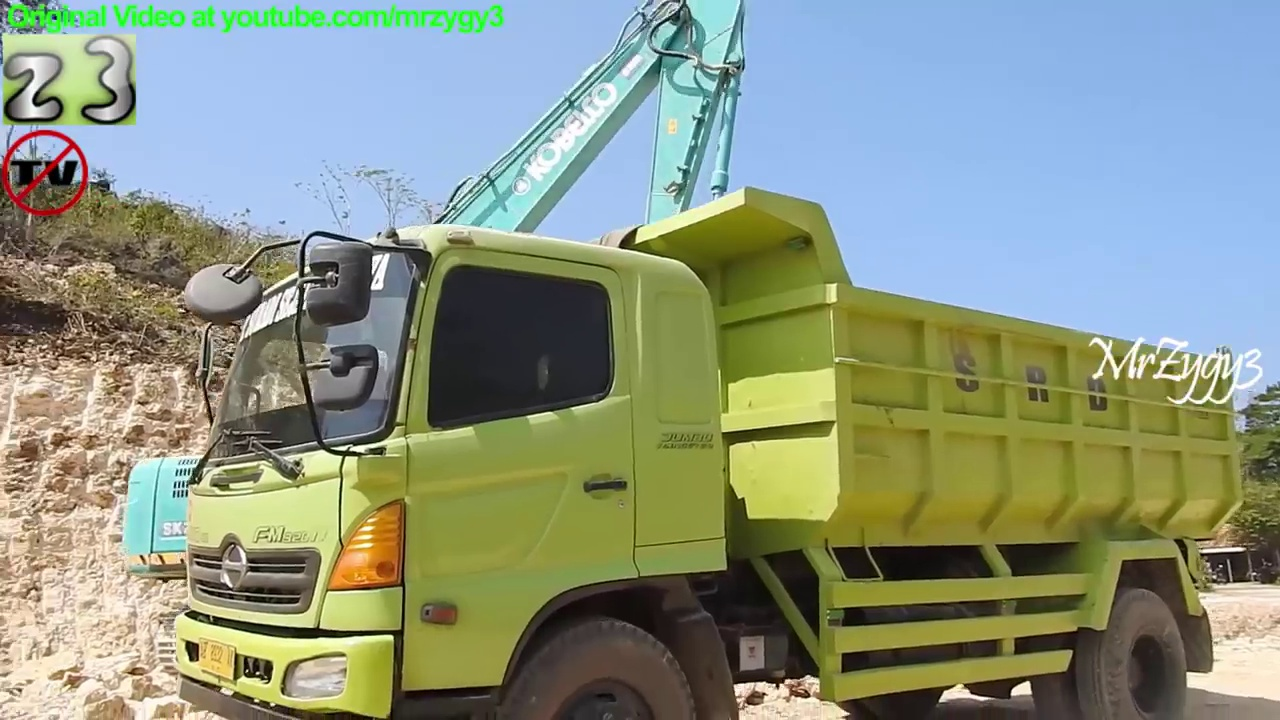excavator: (119, 1, 754, 688)
truck: (169, 183, 1250, 720)
